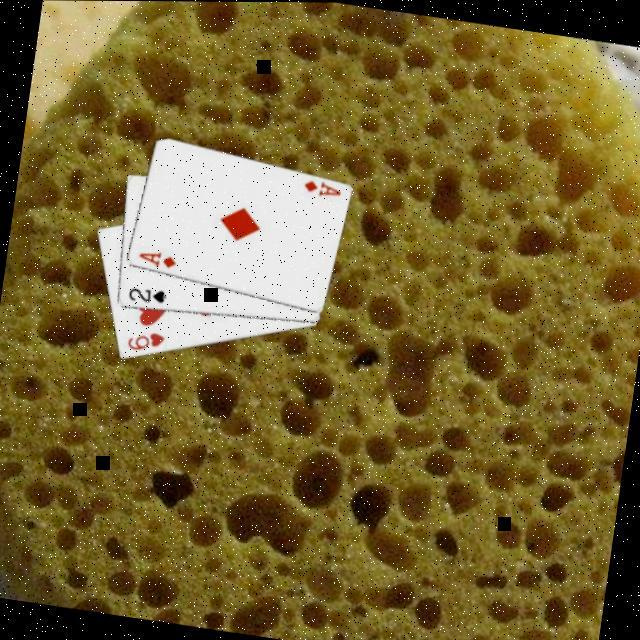2S: (122, 281, 168, 307)
6H: (122, 323, 166, 355)
AD: (298, 173, 342, 200), (133, 244, 178, 270)
